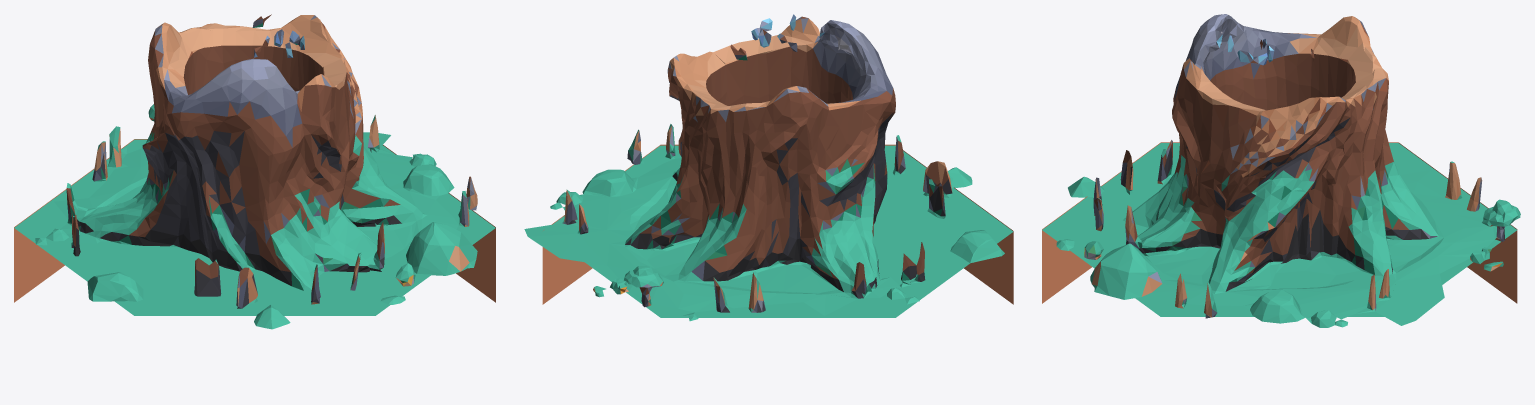
Rendered from tinkle-trunk.glb.
3 views of the same model, side by side, from view 1: azimuth 30°, elevation 25°; view 2: azimuth 150°, elevation 25°; view 3: azimuth 270°, elevation 25° (orthographic). The views are drawn at different scales.
Visible parts, largest first — view 1: world, hexBase; view 2: world, hexBase; view 3: world, hexBase.
Part boxes in pixels (x1,y1,x2,y2): world: (35, 14, 477, 329); hexBase: (14, 139, 495, 315); world: (524, 14, 1004, 321); hexBase: (542, 144, 1013, 317); world: (1056, 14, 1520, 327); hexBase: (1042, 142, 1517, 316).
Bounding box in the file's own units: 1.11 × 0.732 × 1.16.
Materials: 3 (3 with a texture image).
